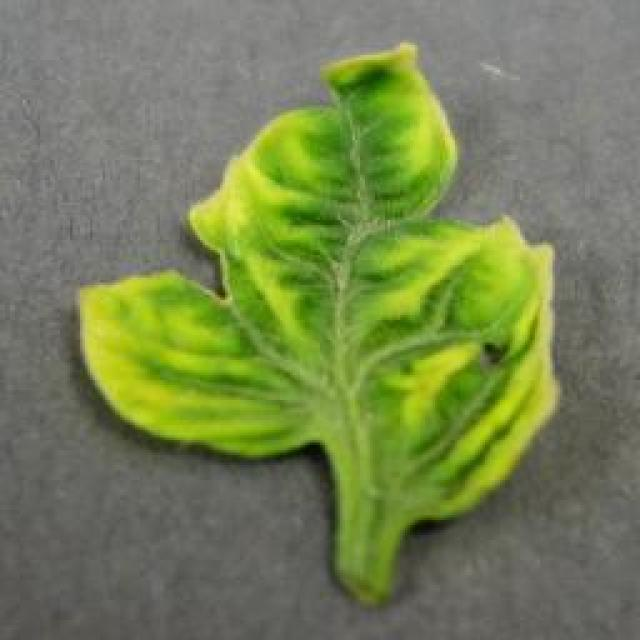Tomato yellow virus leaf: (73, 39, 560, 524)
